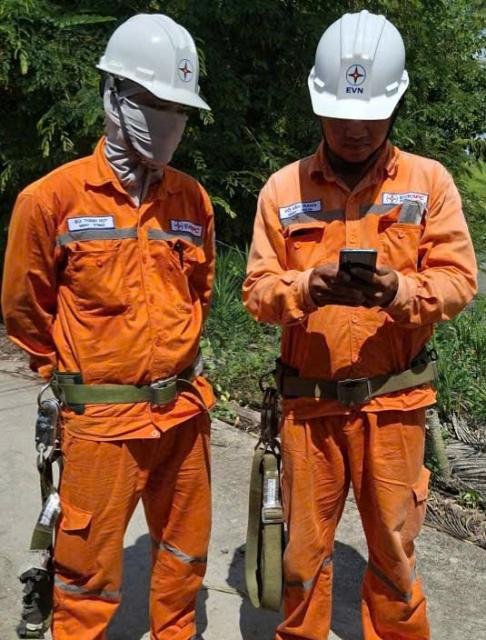gloves: (305, 256, 365, 309), (355, 262, 405, 307)
harness: (37, 351, 224, 419), (256, 355, 455, 418)
helmet: (91, 0, 222, 118), (302, 10, 421, 123)
